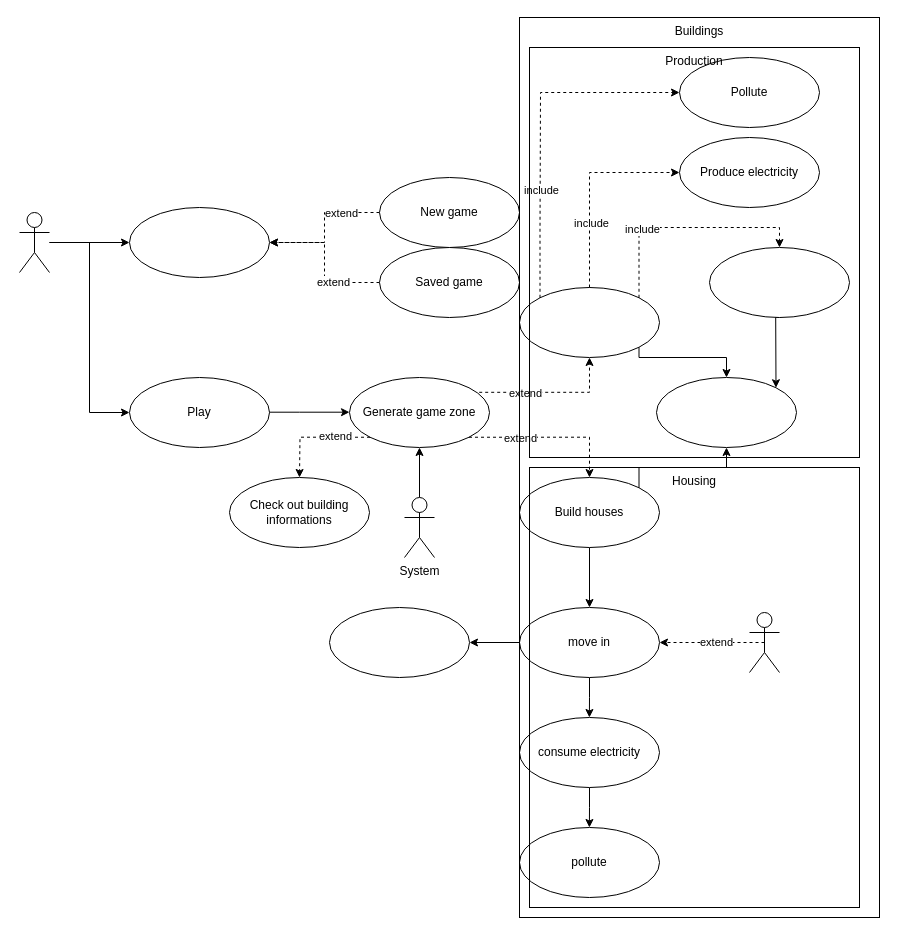
Image size: 897x935. Some labels were removed from this diagram. Here are the shapes that lost their labels. From the top down, the centre of each, then its label:
At [34,242]: "Player".
At [199,242]: "Launch game".
At [779,282]: "Destroy".
At [589,322]: "Build infrastruturs (generate/forward electricity)".
At [726,412]: "Pay".
At [399,642]: "Pay rent".
At [764,642]: "Habitant".
